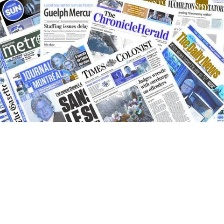news_paper: (76, 30, 191, 123), (0, 33, 98, 126), (156, 17, 224, 122), (83, 0, 178, 63), (39, 0, 103, 57), (0, 26, 53, 77), (162, 0, 223, 44), (0, 0, 49, 38)
